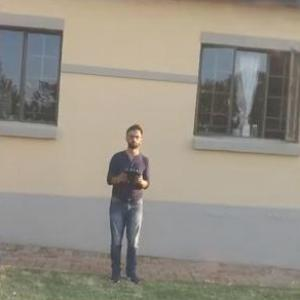follow: (100, 120, 151, 290)
